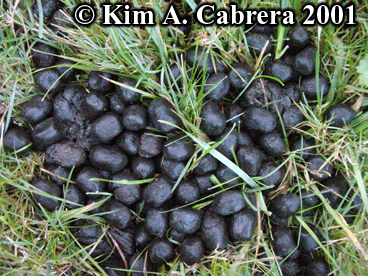Elk: (32, 59, 321, 245)
